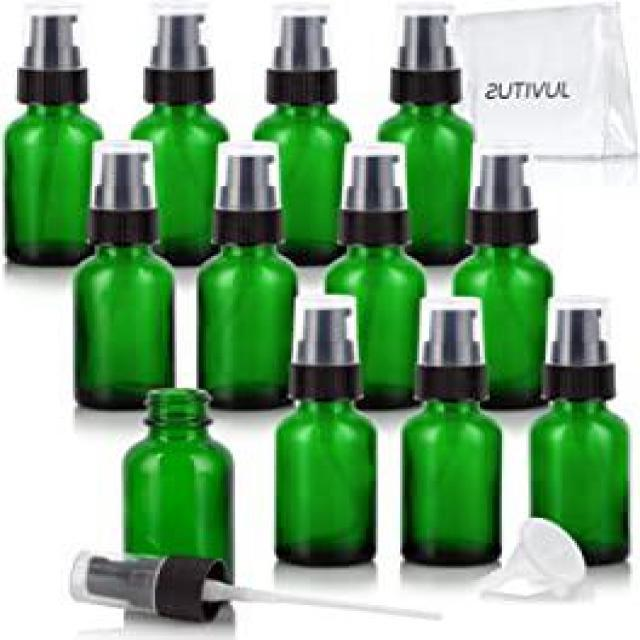glass: (395, 292, 509, 570)
